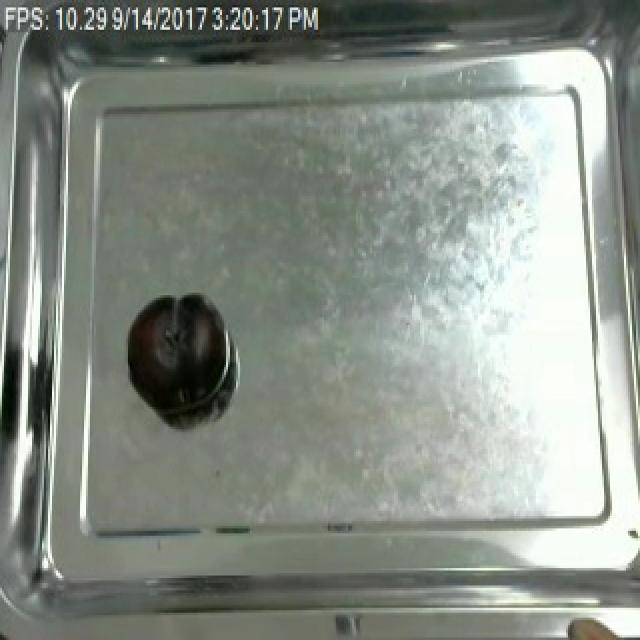Fruit: (124, 290, 226, 417), (556, 608, 638, 640)
